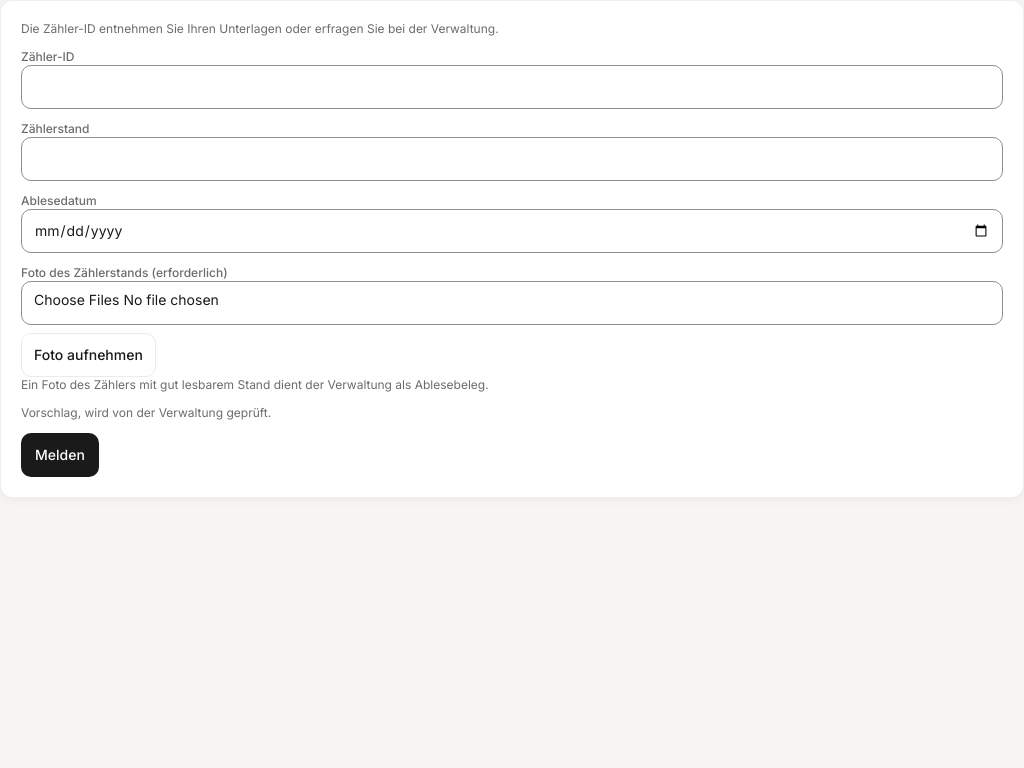
MeterReadingForm › requires a photo in the required mode without a request (AN02)
Expected: the text "Foto des Zählerstands (erforderlich)" is shown, [21, 265, 228, 280]
In the field with id "meter-id": (512, 87) [21, 65, 1003, 109], type "M-1"
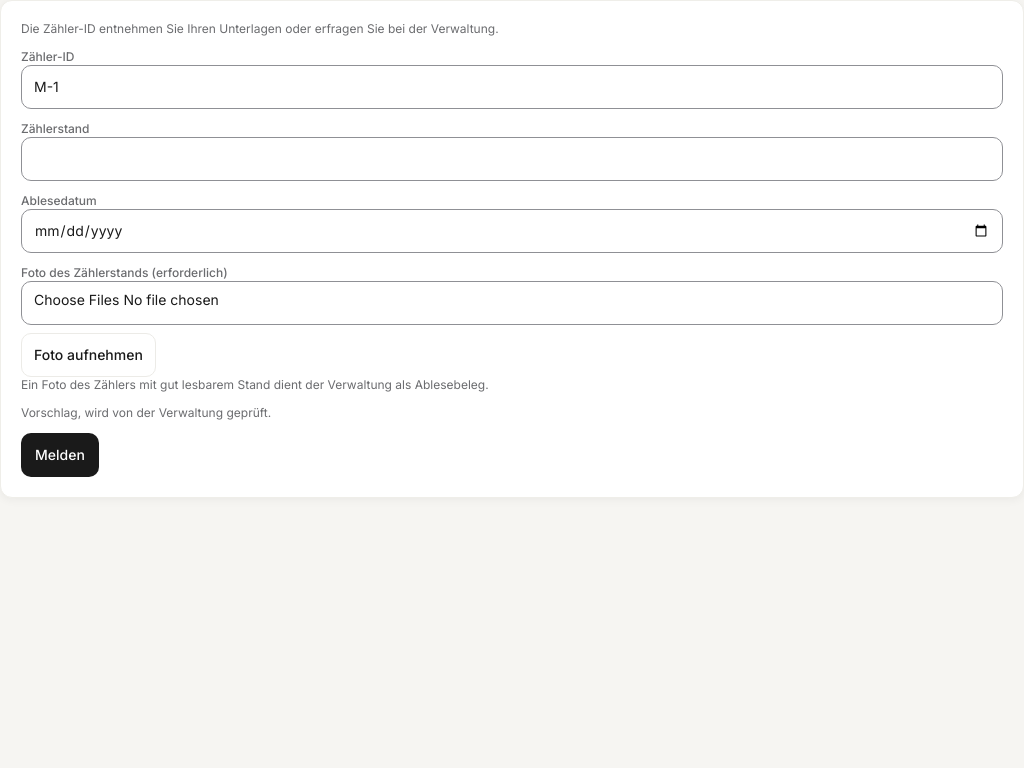
In the field with id "meter-value": (512, 159) [21, 137, 1003, 181], type "7"
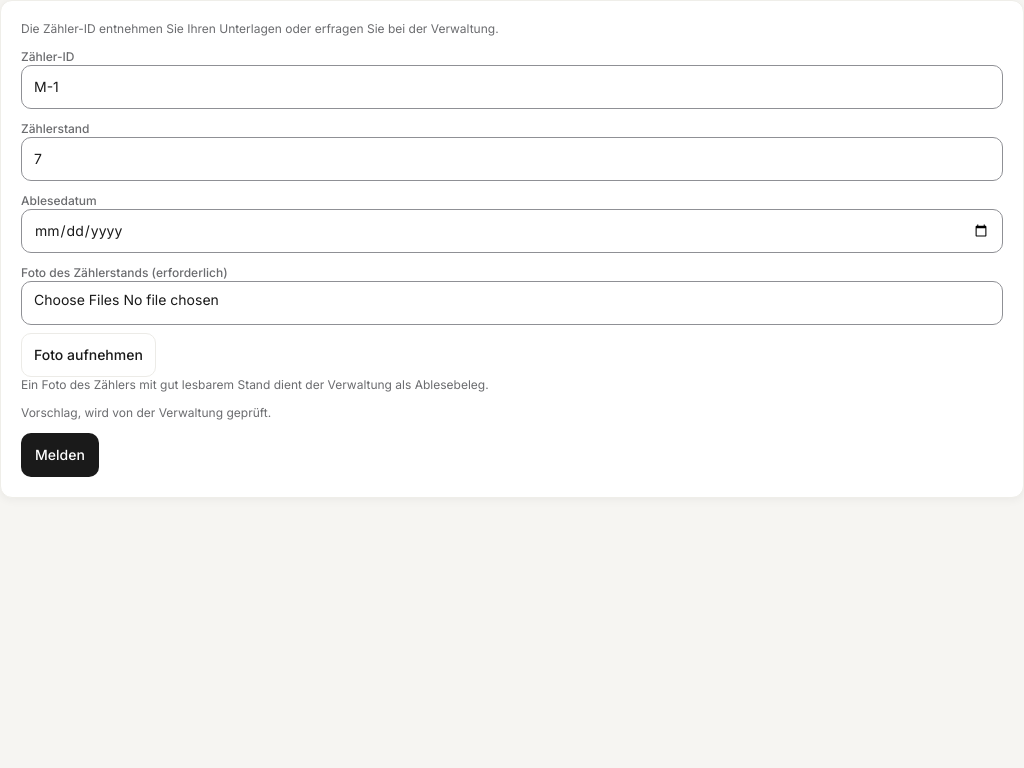
In the date field with id "meter-date": (512, 231) [21, 209, 1003, 253], type "2026-10-01"
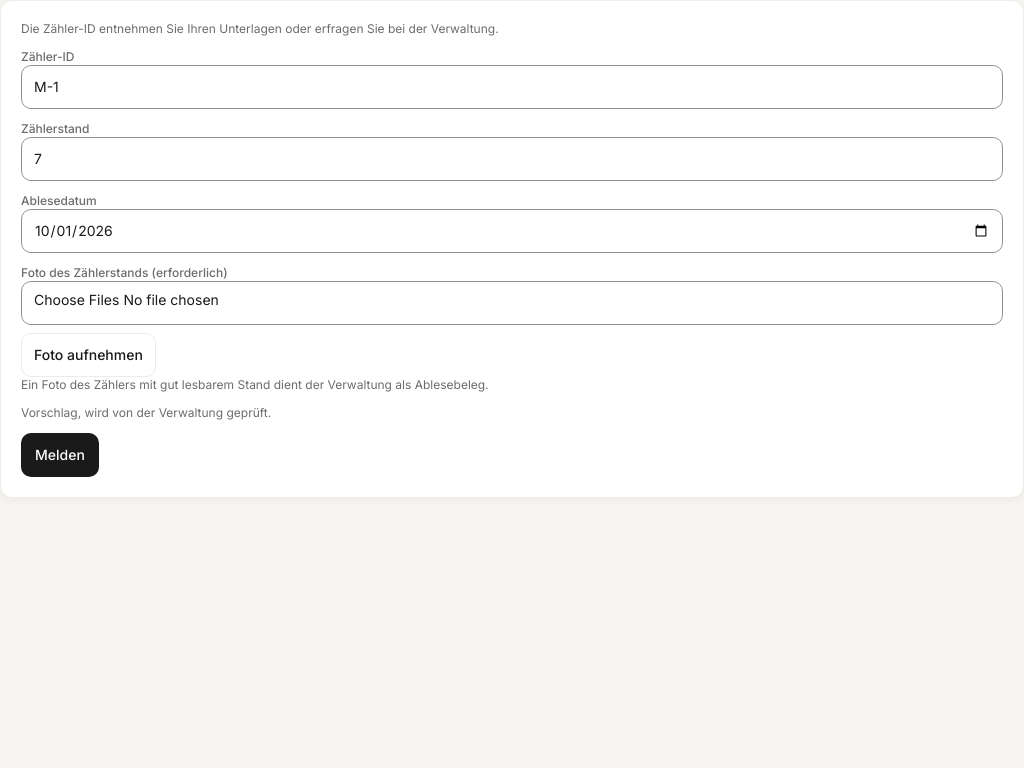
Click the button: (60, 455) [21, 433, 99, 477]
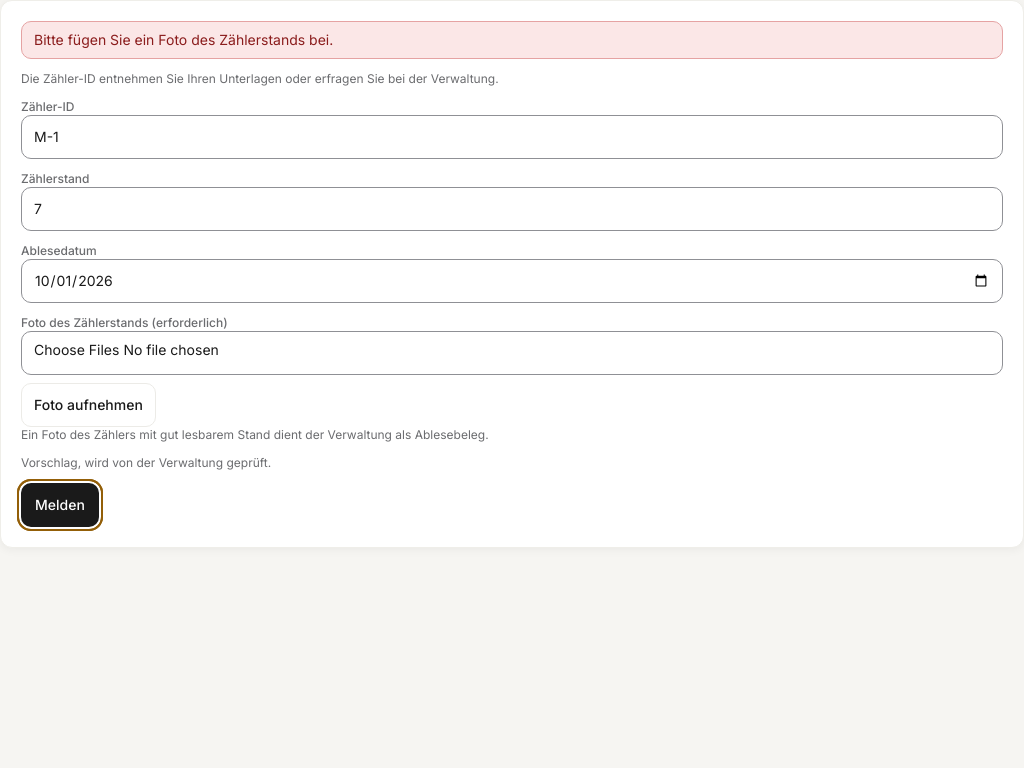
Result: the message shows "Foto des Zählerstands bei" at [34, 31, 333, 48]
